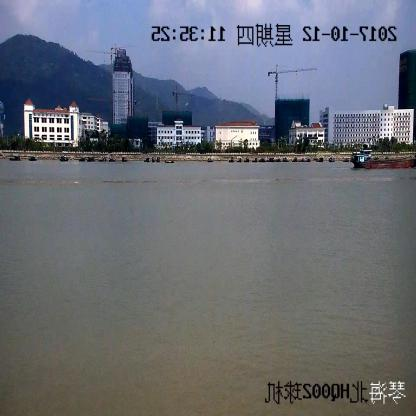Bulk Carrier: (352, 148, 416, 169)
